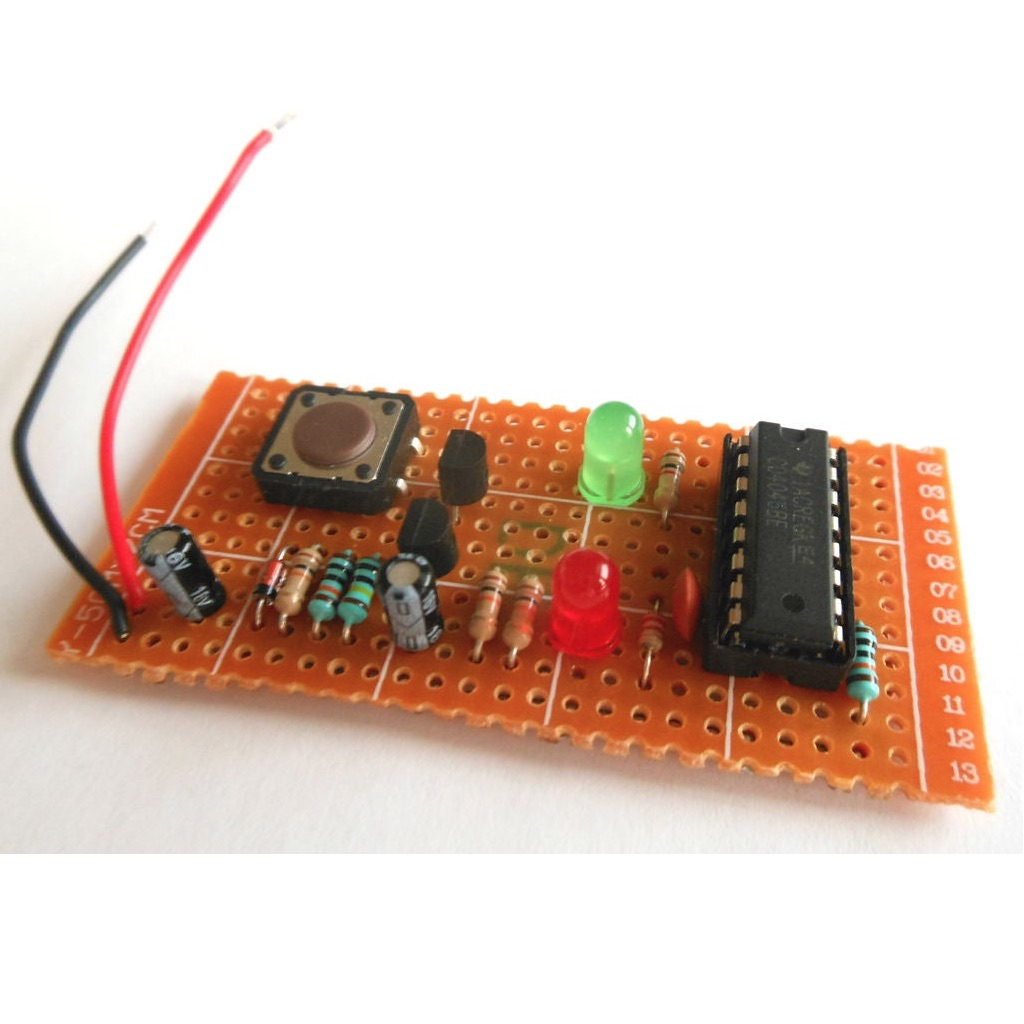Capacitor: (134, 520, 230, 624), (376, 549, 447, 654)
Diode: (249, 552, 287, 612)
LED: (545, 545, 628, 659), (574, 399, 651, 510)
Resistor: (303, 547, 354, 634), (334, 550, 383, 636), (272, 541, 322, 625), (498, 572, 546, 654), (464, 568, 510, 650), (845, 621, 883, 712), (650, 448, 690, 519), (634, 607, 667, 663)
